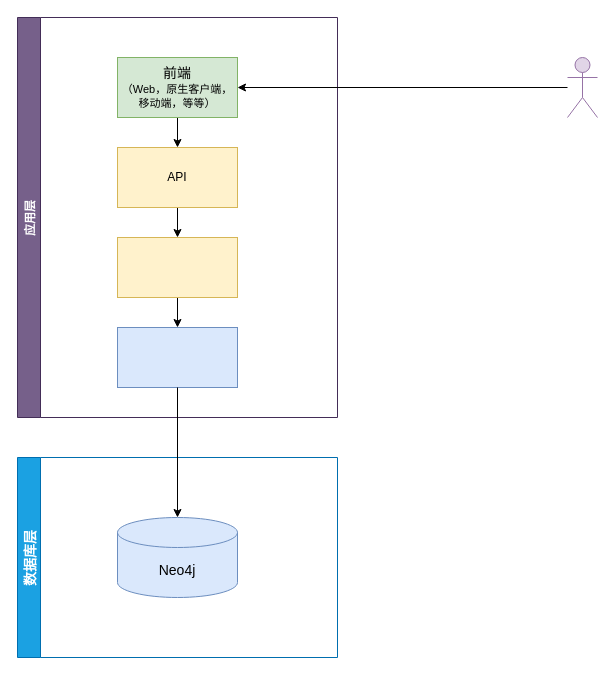
The diagram is 615 pixels wide and 675 high, and some of its shapes have lost their labels. Here are the shapes that lost their labels. From the top down, the centre of each, then its label:
the point at 582,87: 用户
the point at 177,267: 业务逻辑层
the point at 177,357: Neo4j 客户端驱动 (.NET, Python, JS, Go, etc)
